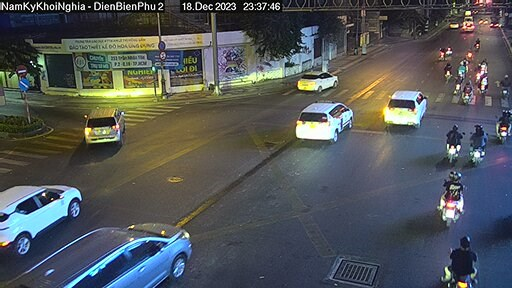car: (36, 211, 226, 288), (3, 168, 93, 246), (303, 88, 358, 147), (81, 95, 135, 149), (383, 82, 423, 136), (292, 64, 341, 93)
motorbike: (435, 224, 483, 282), (437, 168, 472, 224), (470, 119, 486, 169), (443, 126, 463, 165)
